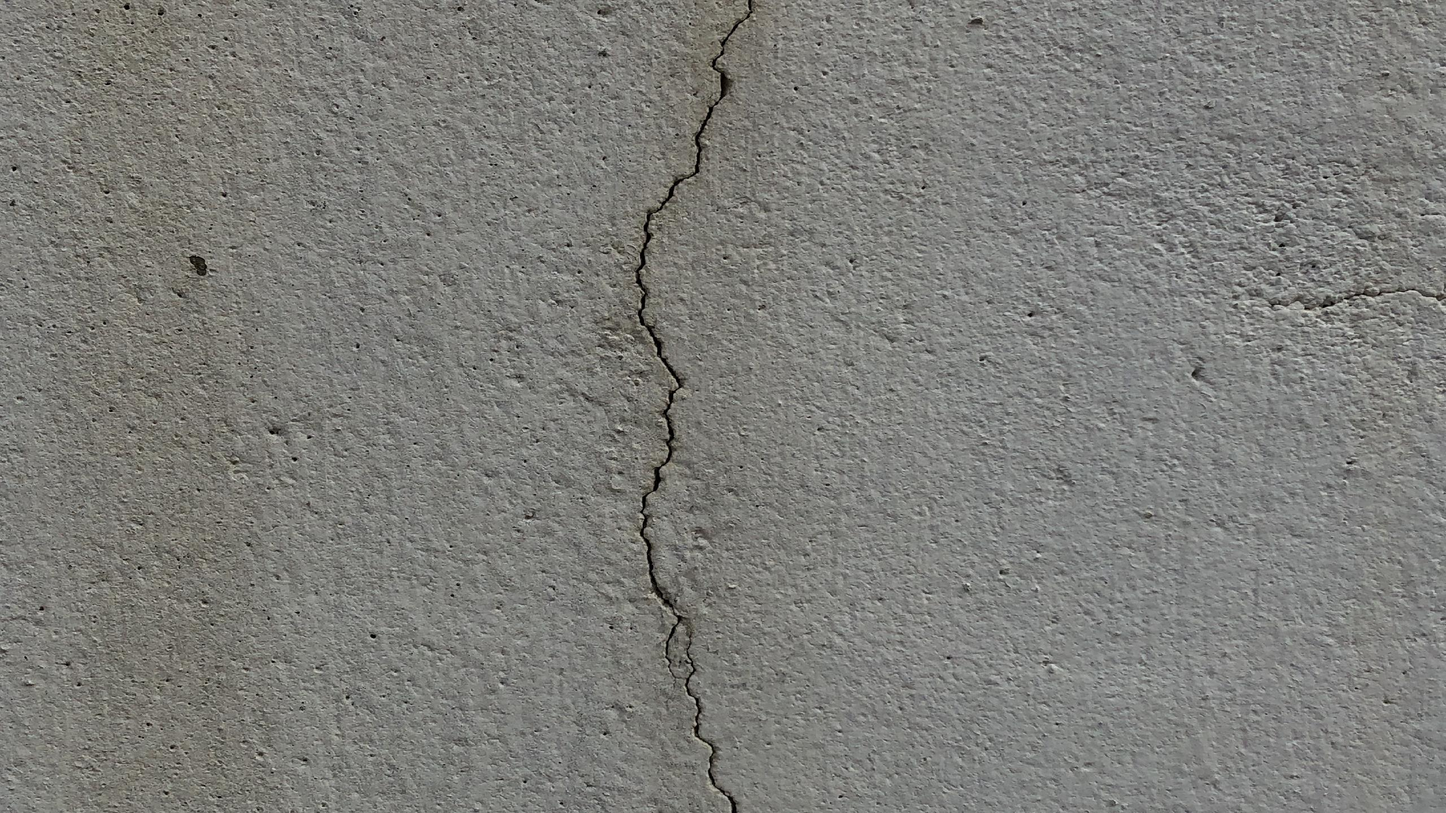crack: (635, 0, 753, 678), (685, 632, 737, 812)
